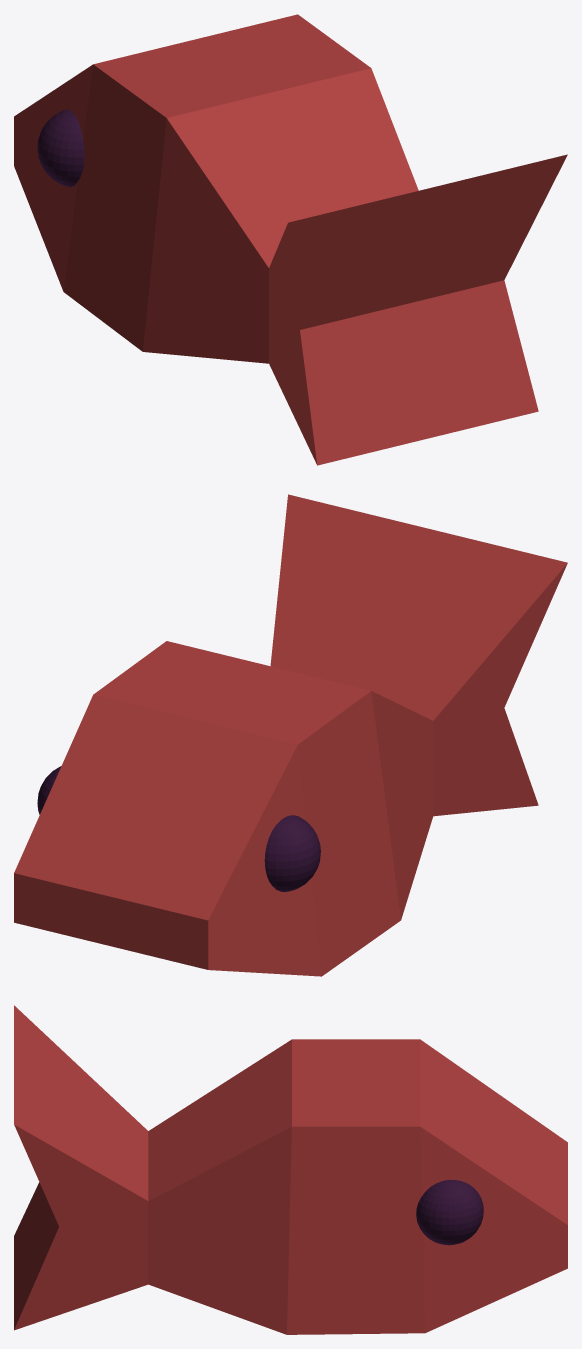
Rendered from small_enemy_fish1.fbx.
The picture shows the model from 3 angles, top to bottom: view 1: azimuth 30°, elevation 25°; view 2: azimuth 150°, elevation 25°; view 3: azimuth 270°, elevation 25°; orthographic projection. The views are drawn at different scales.
Parts seen in each view (by area): view 1: Cube, Sphere; view 2: Cube, Sphere; view 3: Cube, Sphere.
Part boxes in pixels (<box>): Cube: <box>14,14,567,465</box>; Sphere: <box>37,109,84,187</box>; Cube: <box>14,494,567,976</box>; Sphere: <box>37,766,320,891</box>; Cube: <box>14,1005,567,1334</box>; Sphere: <box>416,1180,483,1245</box>.
Bounding box in the file's own units: 107 × 210 × 91.36.
